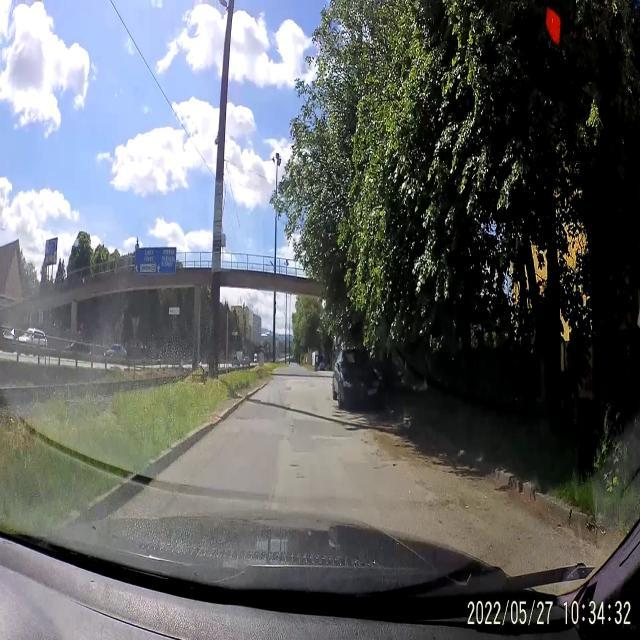Pothole: (235, 411, 253, 421), (294, 472, 306, 482), (290, 460, 300, 470), (290, 421, 296, 435)
